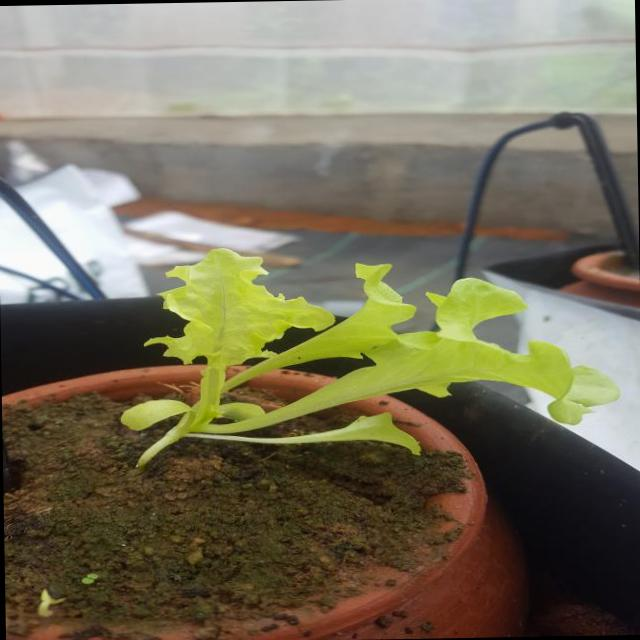Lettuce-Not-Ready-to-Harvest: (119, 248, 620, 467)
